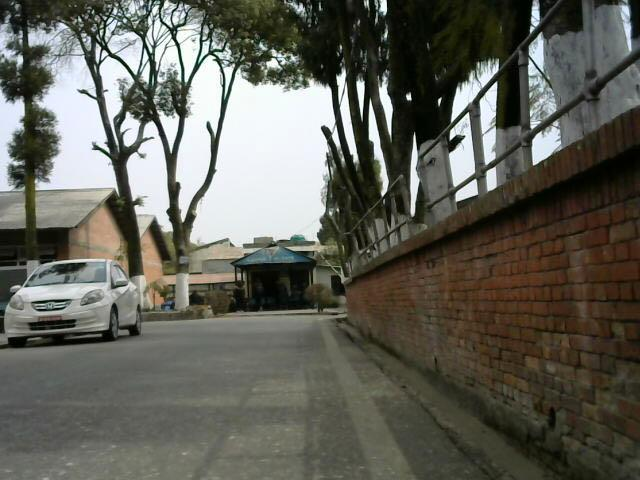Car: (0, 248, 157, 349)
Road: (1, 316, 519, 480)
Tree: (54, 0, 308, 267)
